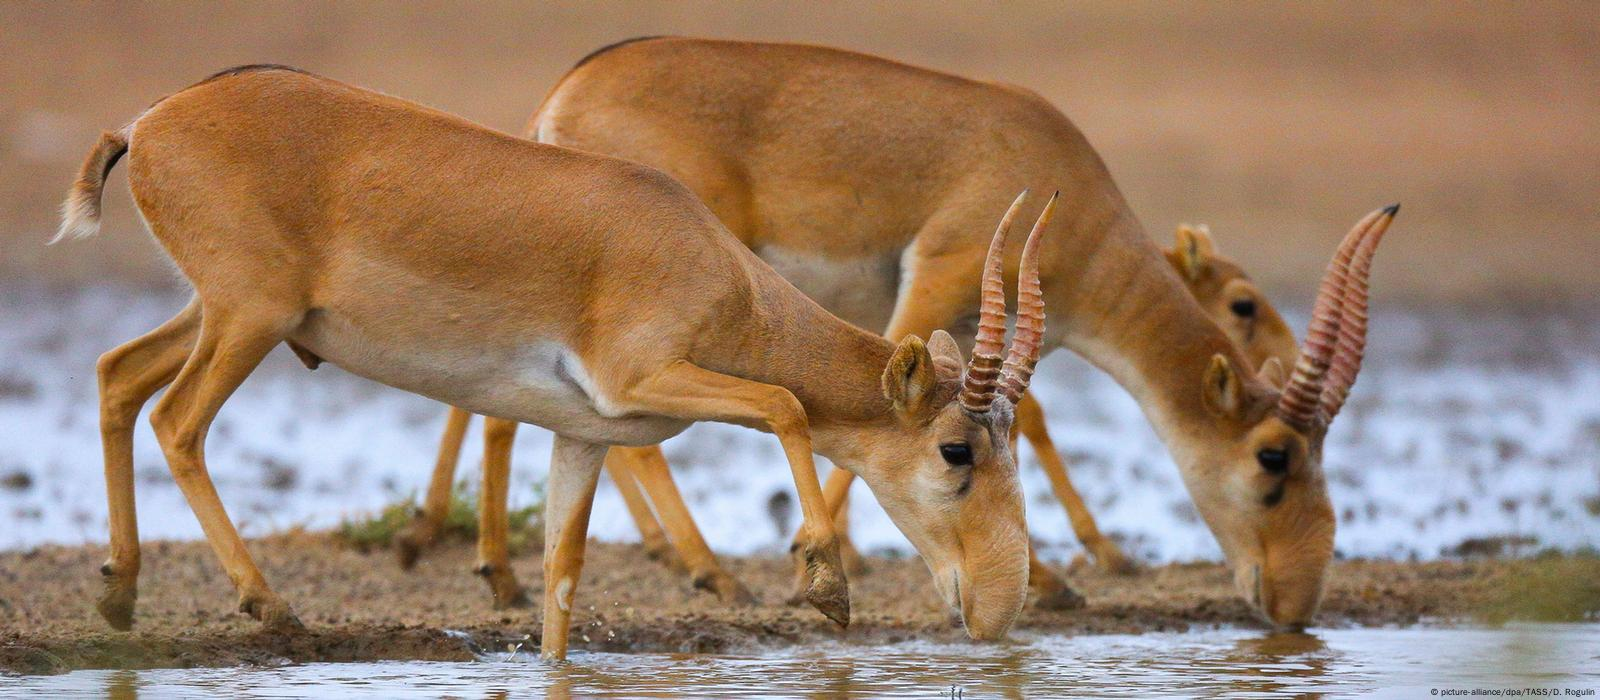saiga: (40, 58, 1064, 700), (544, 33, 1407, 656)
